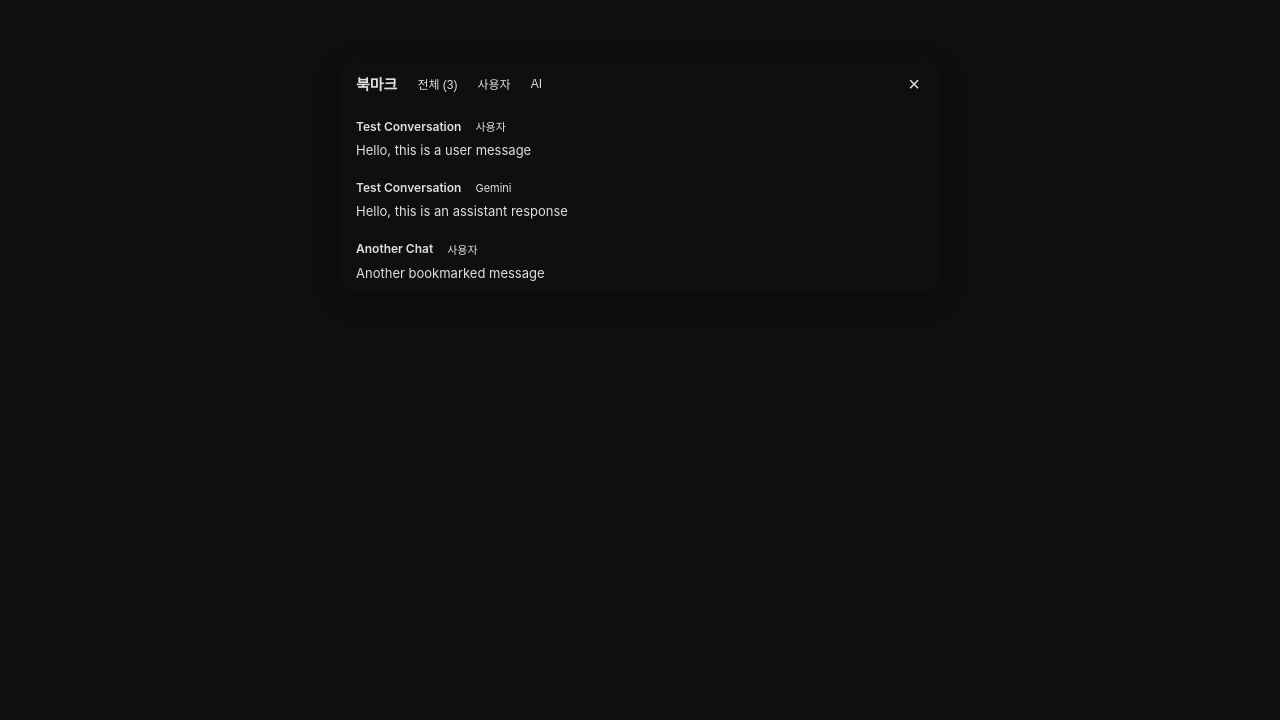
Test: BookmarkedMessages › filters by assistant role
Click the button with aria-label "AI 필터": (536, 84) top-left (523, 72), bottom-right (550, 95)
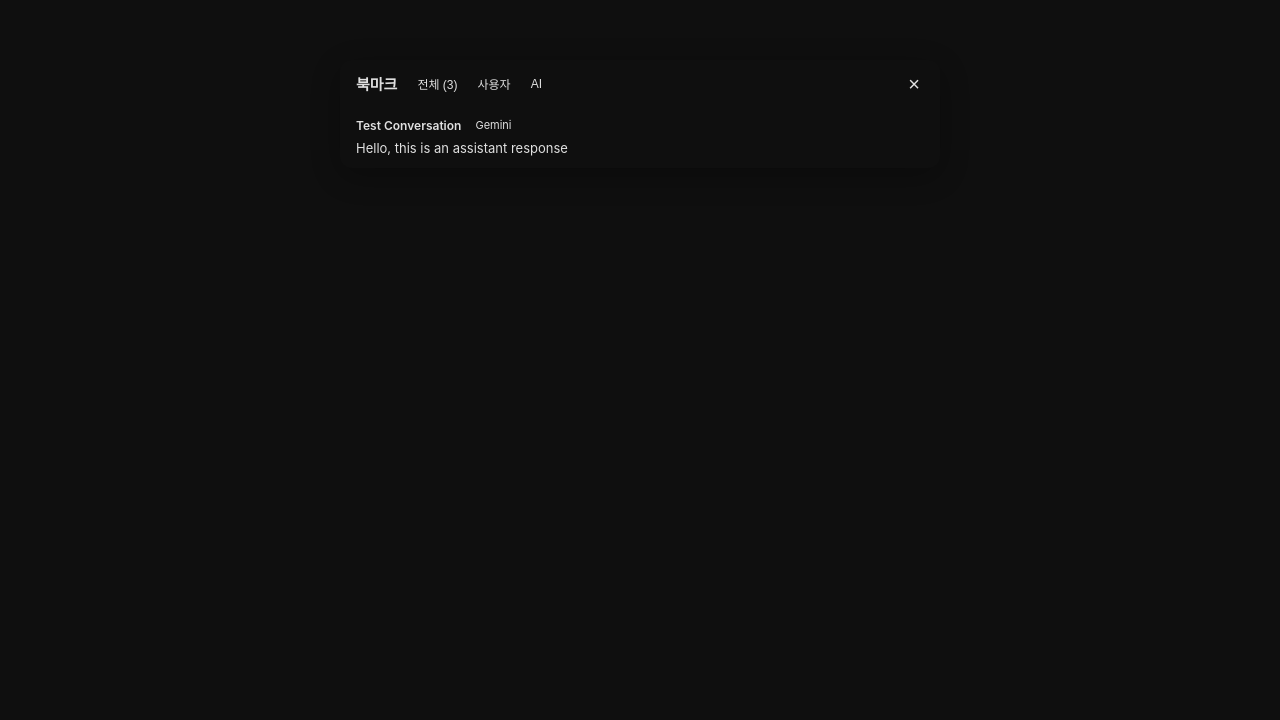
Expected: the number of options is 1, top-left (356, 118), bottom-right (568, 156)
